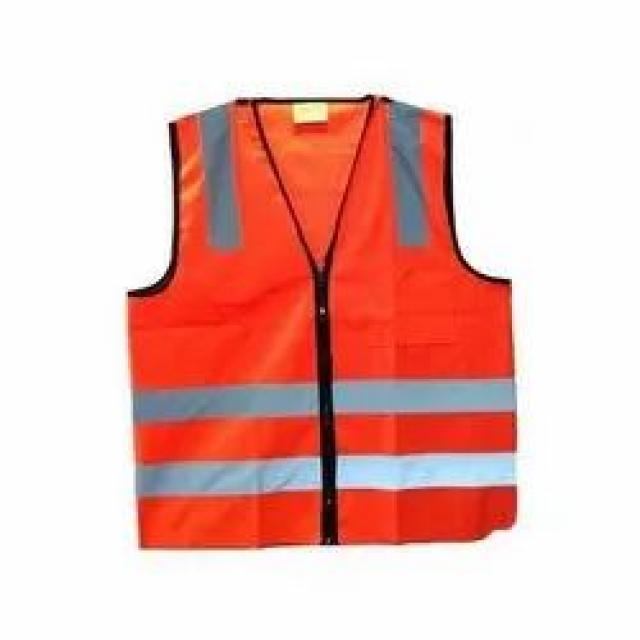Reflective-Jacket: (59, 23, 555, 586)
